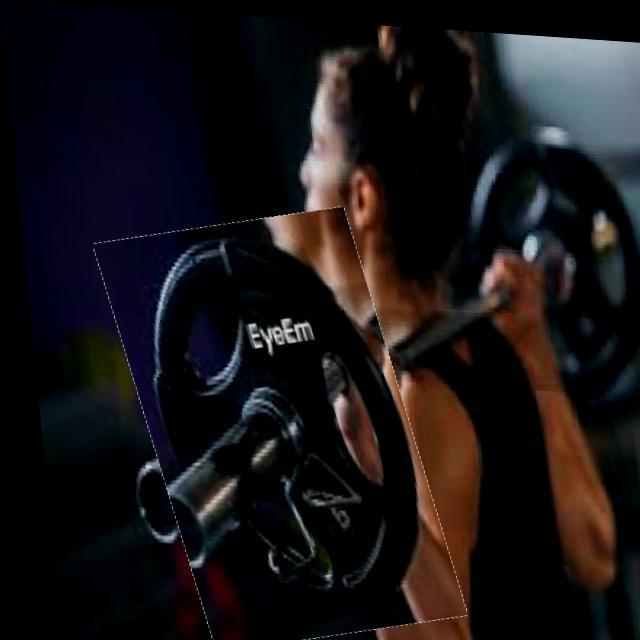barbell: (106, 202, 441, 640)
